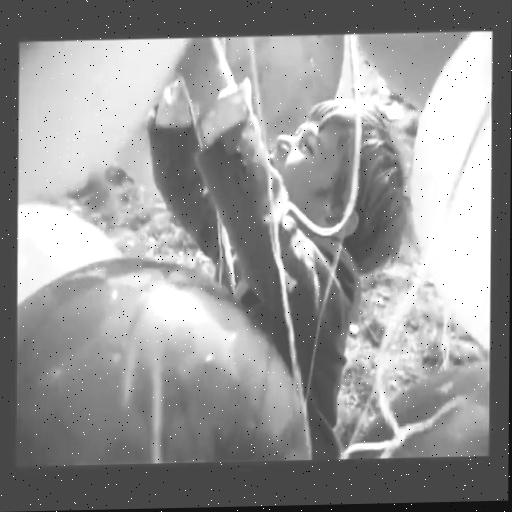balloon: (15, 251, 314, 467), (133, 28, 347, 204), (18, 40, 189, 201), (410, 31, 493, 358), (345, 362, 488, 457), (16, 198, 124, 305), (359, 28, 470, 113)
